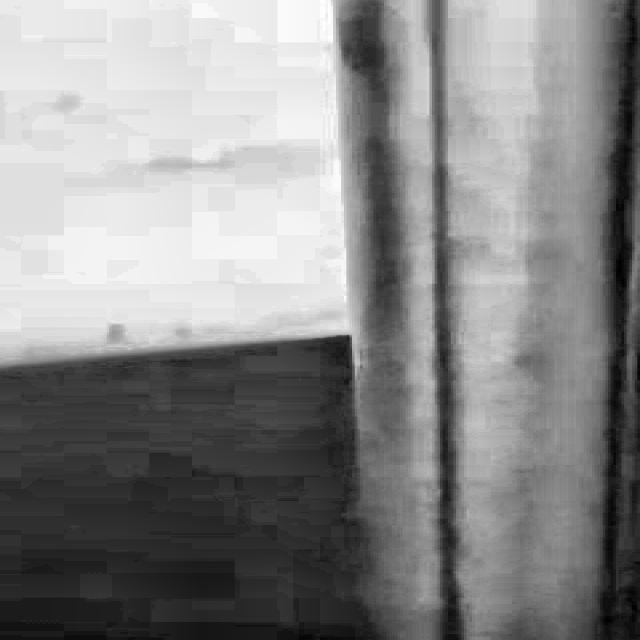bottle: (331, 0, 640, 640)
